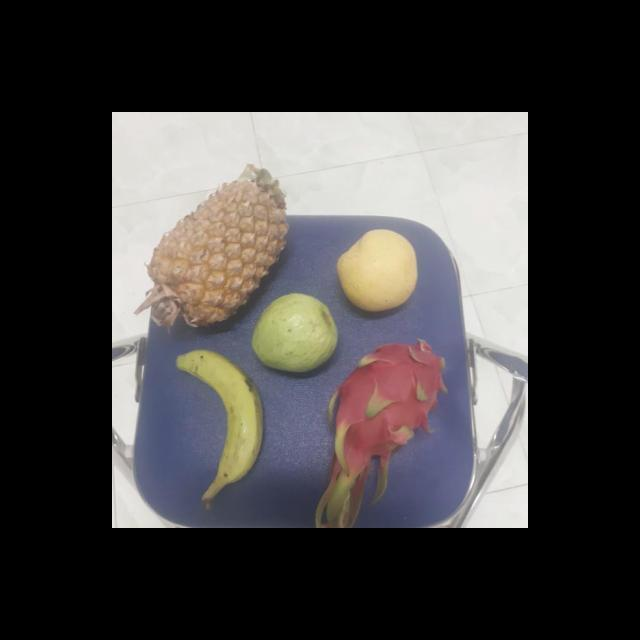banana: (178, 354, 268, 491)
guava: (250, 293, 340, 377), (338, 231, 421, 312)
pineapple: (146, 175, 292, 331)
pitaya: (324, 343, 452, 478)
